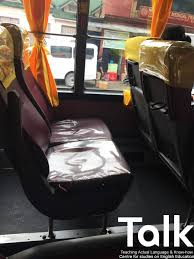seat: (9, 57, 128, 202)
